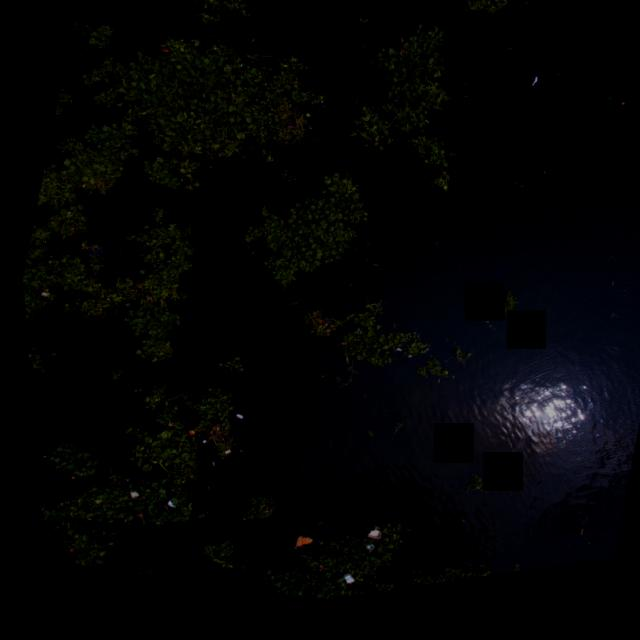plastic: (348, 525, 380, 555), (73, 235, 104, 265), (325, 573, 354, 600), (149, 492, 175, 520), (110, 482, 138, 507), (524, 83, 542, 108), (223, 413, 244, 429), (30, 285, 46, 302), (351, 549, 368, 564), (212, 450, 226, 463), (456, 0, 469, 12), (96, 528, 109, 540), (198, 461, 209, 474), (387, 356, 397, 365)
